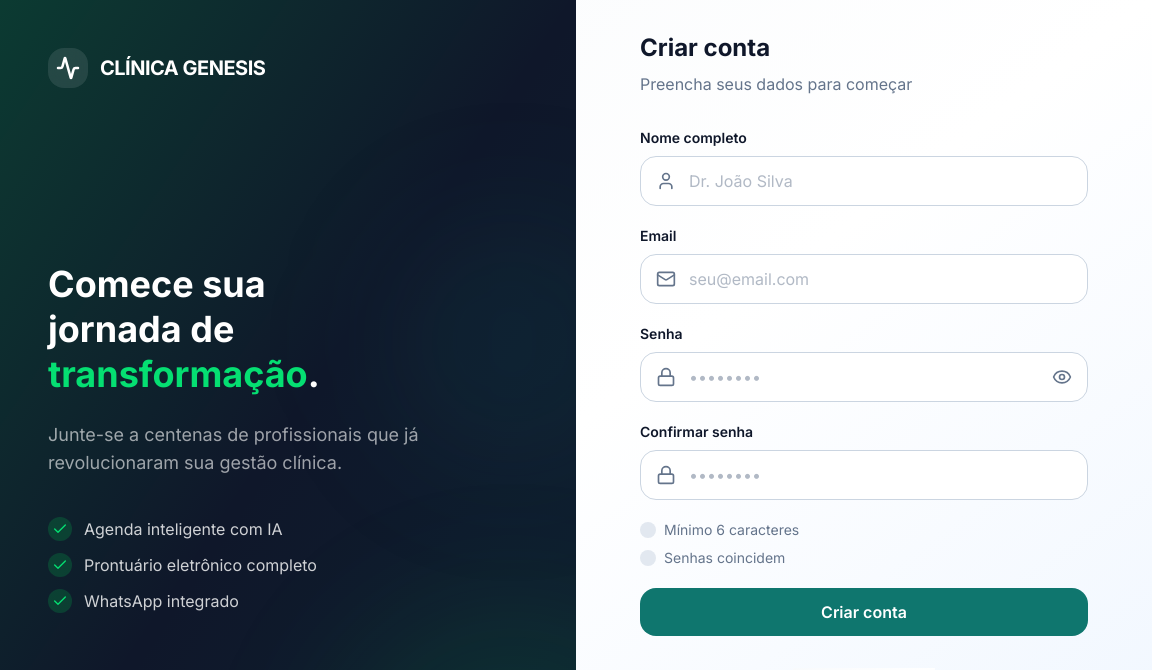
Test: Register › local validation › should show error when passwords do not match
Type "Test User" into the field labelled "Nome completo" at x=864, y=181, box [640,156,1088,206]
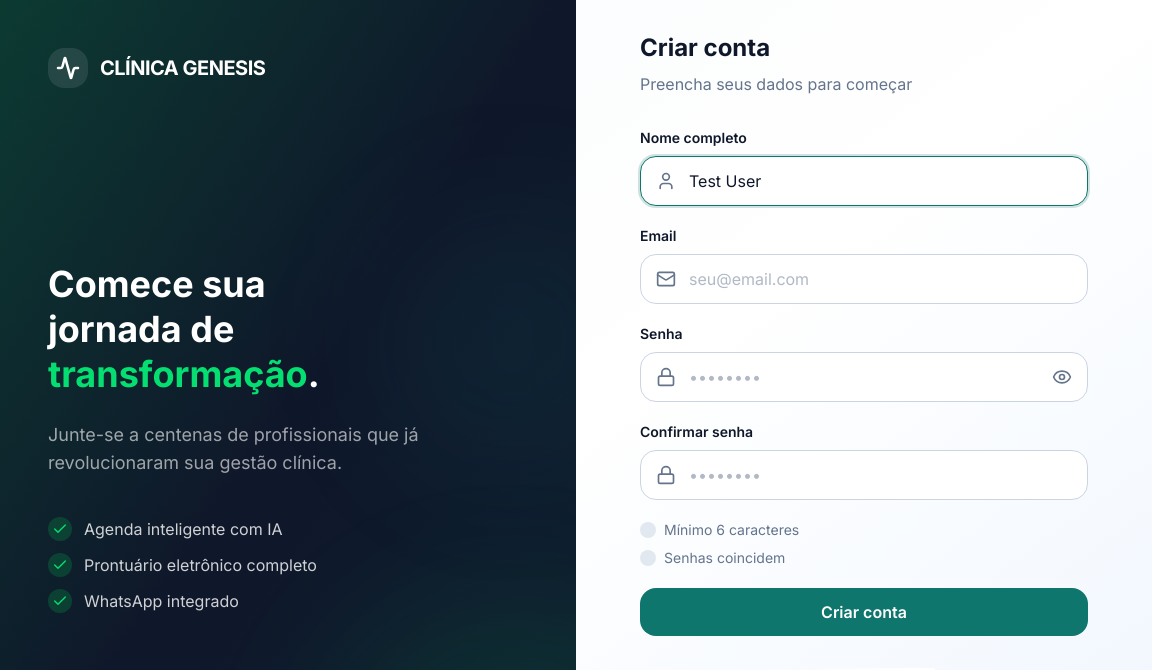
Type "test@example.com" into the field labelled "Email" at x=864, y=279, box [640,254,1088,304]
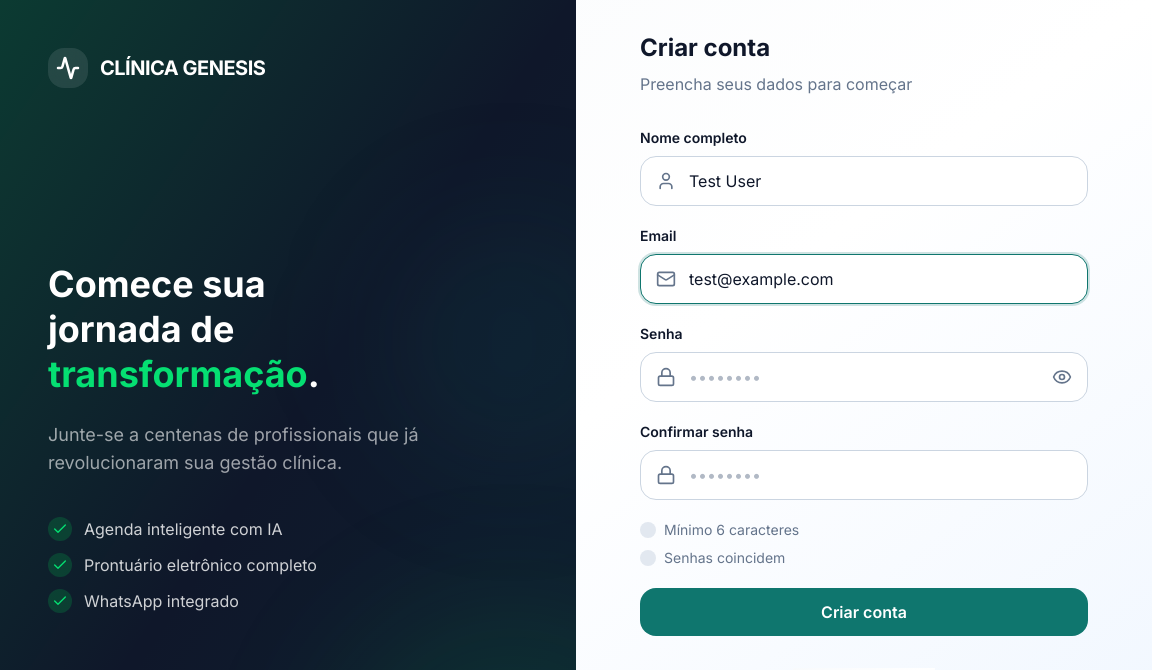
Type "password123" into the password field labelled "Senha" at x=864, y=377, box [640,352,1088,402]
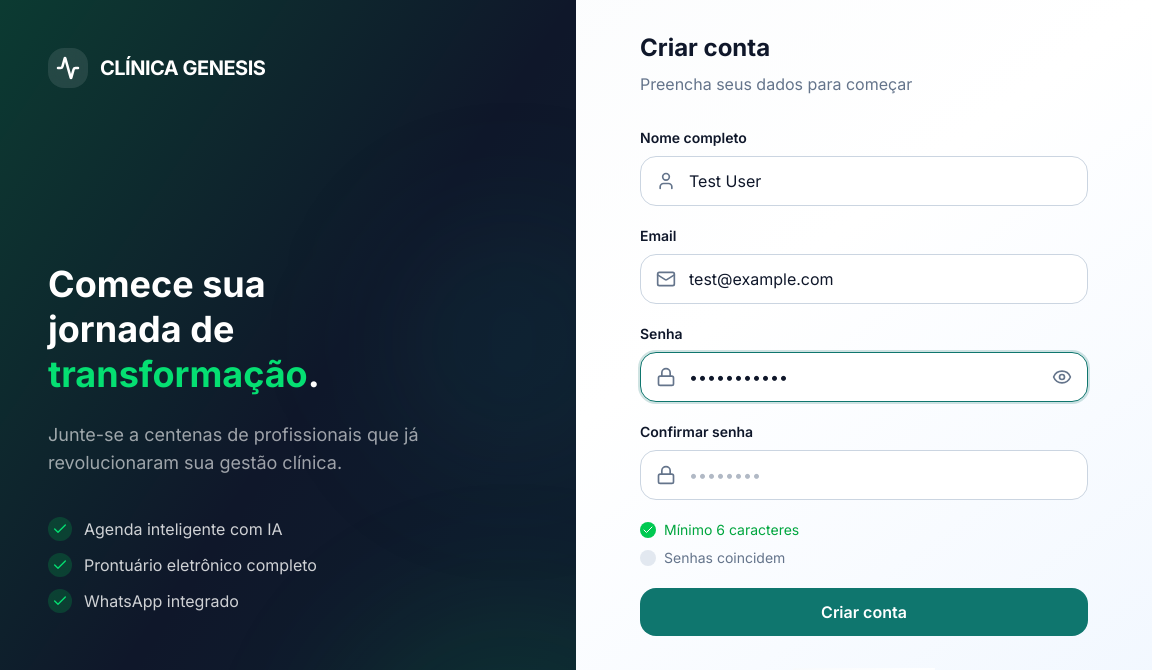
Type "different" into the password field labelled "Confirmar senha" at x=864, y=475, box [640,450,1088,500]
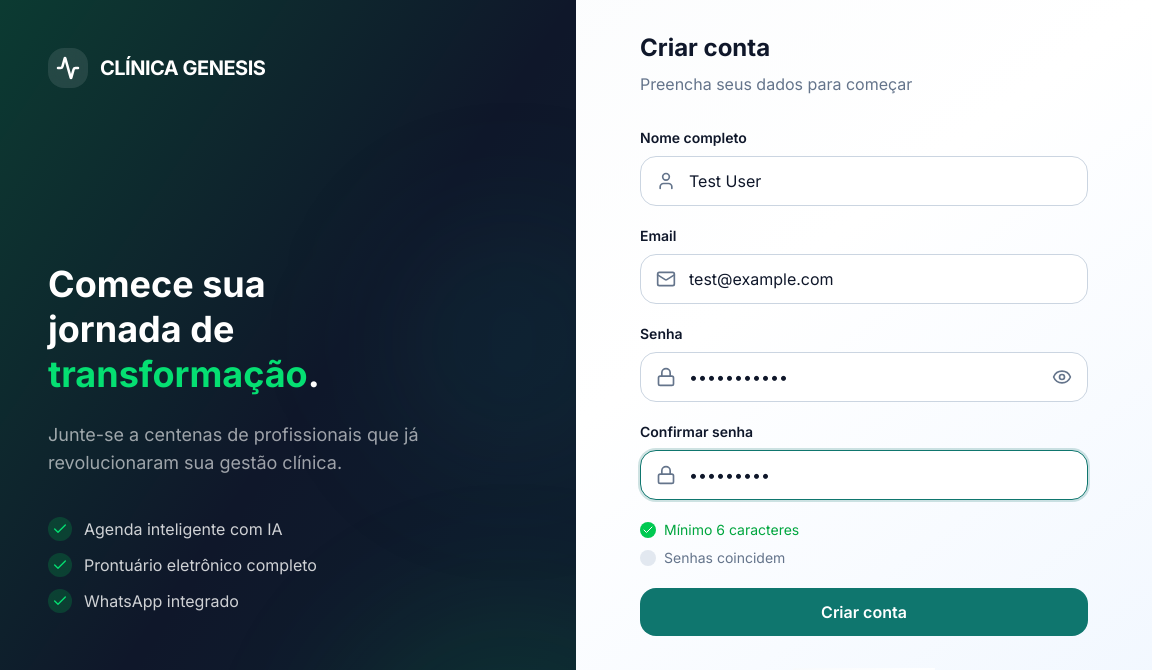
Click the button "Criar conta" at x=864, y=612, box [640,588,1088,636]
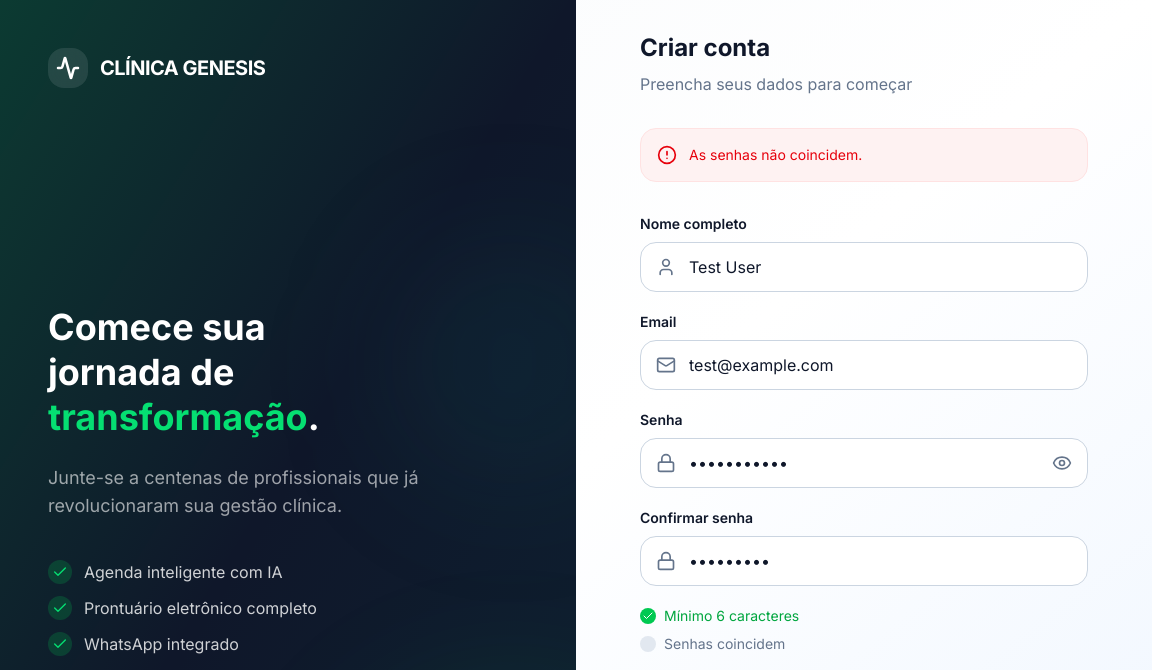
Expected: the text "As senhas não coincidem." is shown, [689,145,862,165]
